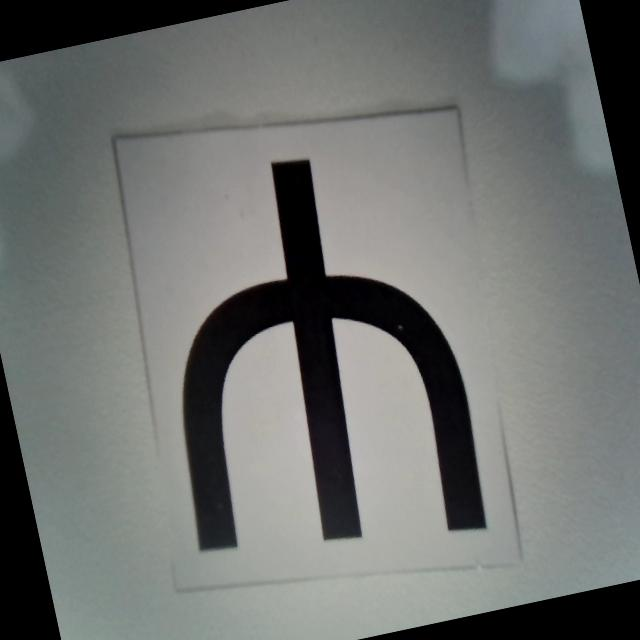nedoF: (122, 128, 496, 586)
